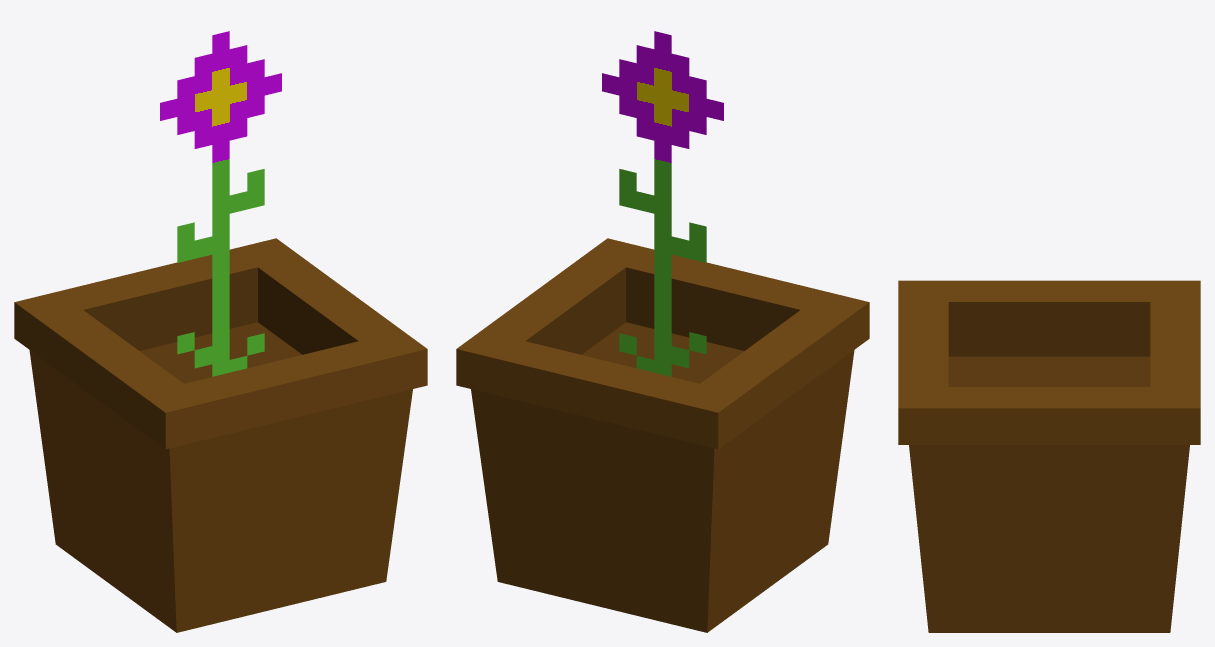
The model's file is flower_in_a_pot.glb.
3 views of the same model, side by side, from view 1: azimuth 30°, elevation 25°; view 2: azimuth 150°, elevation 25°; view 3: azimuth 270°, elevation 25° (orthographic).
Visible parts, largest first — view 1: pot_1, flower_0; view 2: pot_1, flower_0; view 3: pot_1.
Part boxes in pixels (x1=…): pot_1: x1=14, y1=238, x2=427, y2=632; flower_0: x1=160, y1=31, x2=281, y2=376; pot_1: x1=456, y1=238, x2=869, y2=632; flower_0: x1=602, y1=31, x2=723, y2=376; pot_1: x1=898, y1=280, x2=1200, y2=632.
Size of the model in its own units: 0.9375 by 1.81 by 0.9375.
Materials: 1 (1 with a texture image).
